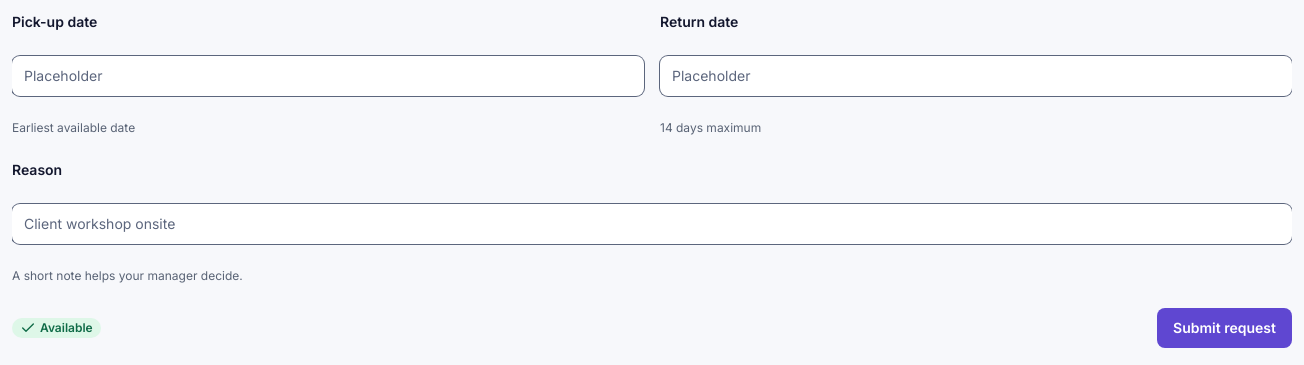
Test: RequestPanel › rejects a loan longer than 14 days
Type "2026-10-22" into the field labelled "Pick-up date". click: (328, 76)
box: [24,66,632,86]
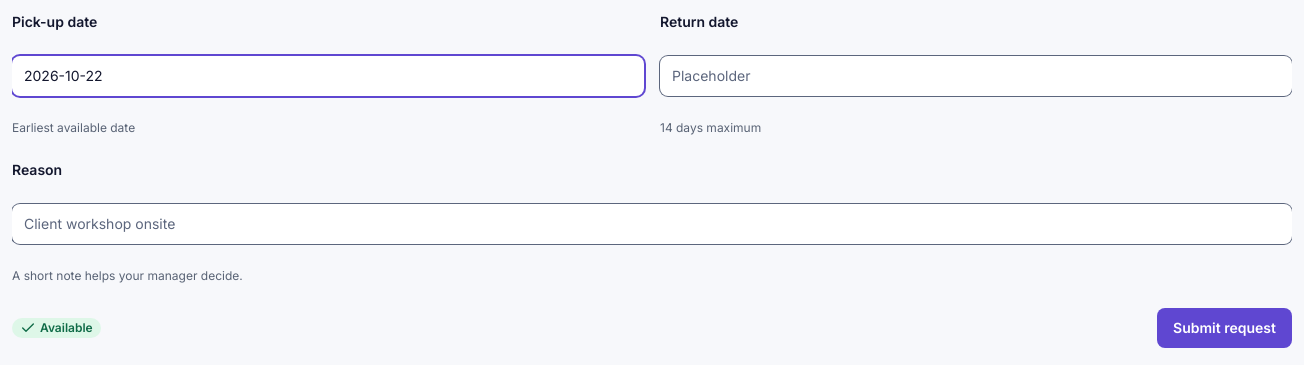
Type "2026-11-22" into the field labelled "Return date". click: (976, 76)
box: [672,66,1280,86]
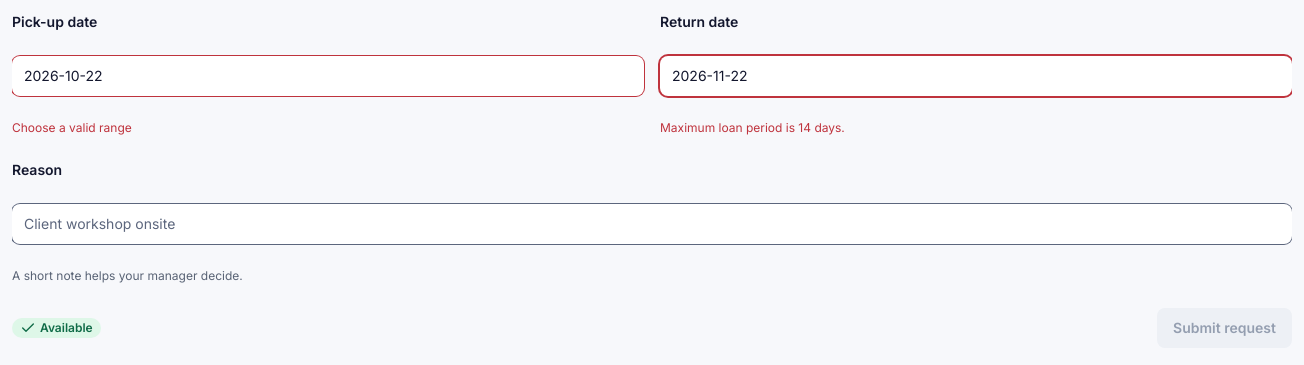
Expected: the text "Maximum loan period is 14 days." is shown, [660,120,845,135]
Expected: the button "Submit request" is disabled, [1157,308,1292,348]
